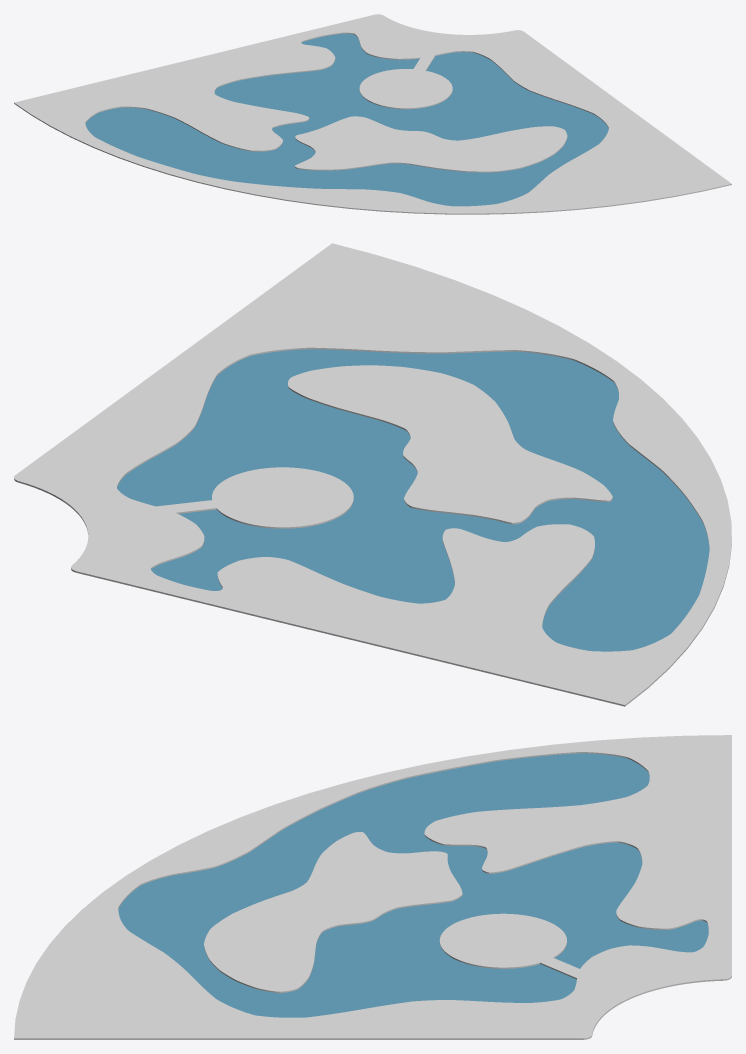
Rendered from WaterRegion.glb.
The picture shows the model from 3 angles, top to bottom: view 1: azimuth 30°, elevation 25°; view 2: azimuth 150°, elevation 25°; view 3: azimuth 270°, elevation 25°; orthographic projection. The views are drawn at different scales.
Visible parts, largest first — view 1: WaterRegion; view 2: WaterRegion; view 3: WaterRegion.
Boxes of the visible parts, x1,y1,x2,y2 form: WaterRegion: [14, 14, 731, 214]; WaterRegion: [14, 243, 731, 706]; WaterRegion: [14, 735, 731, 1039].
Bounding box in the file's own units: 2.25 × 0.005 × 2.25.
